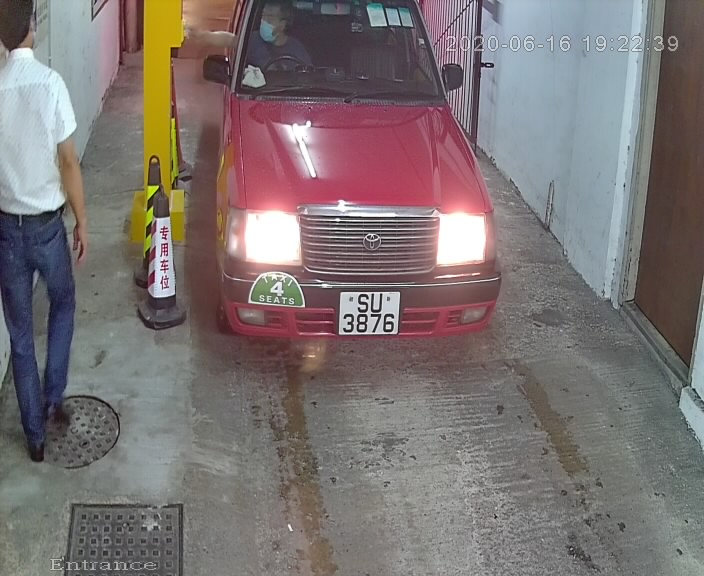taxi: (204, 2, 504, 372)
taxi_mark: (244, 268, 313, 317)
